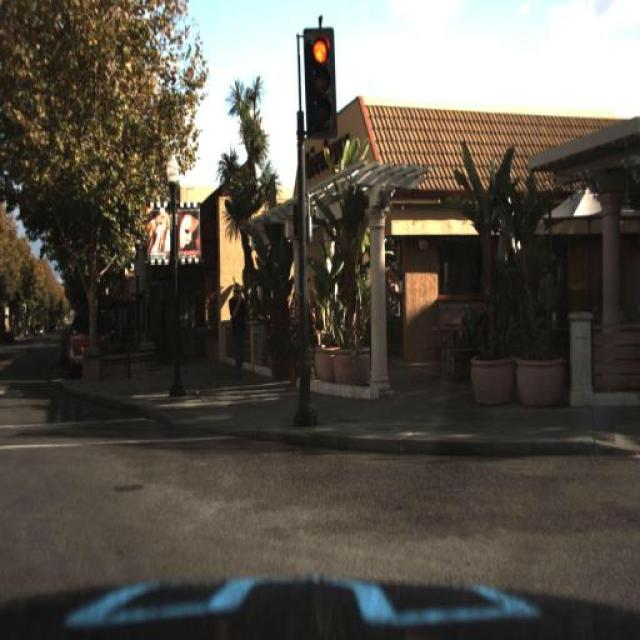trafficLight: (226, 264, 252, 388), (224, 274, 252, 380)
trafficLight-RedLeft: (302, 25, 336, 146)
